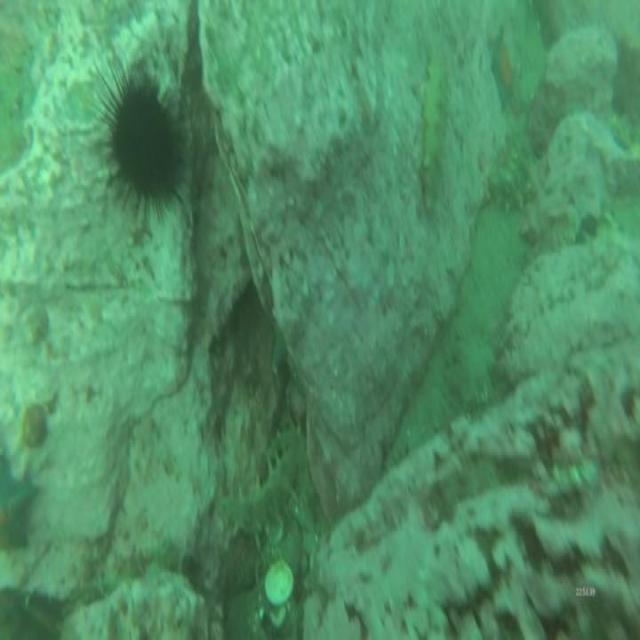echinus: (110, 81, 188, 202)
holothurian: (221, 430, 307, 534), (492, 125, 538, 212), (422, 46, 444, 210)
scallop: (265, 564, 294, 605)
starfish: (489, 30, 515, 103)
